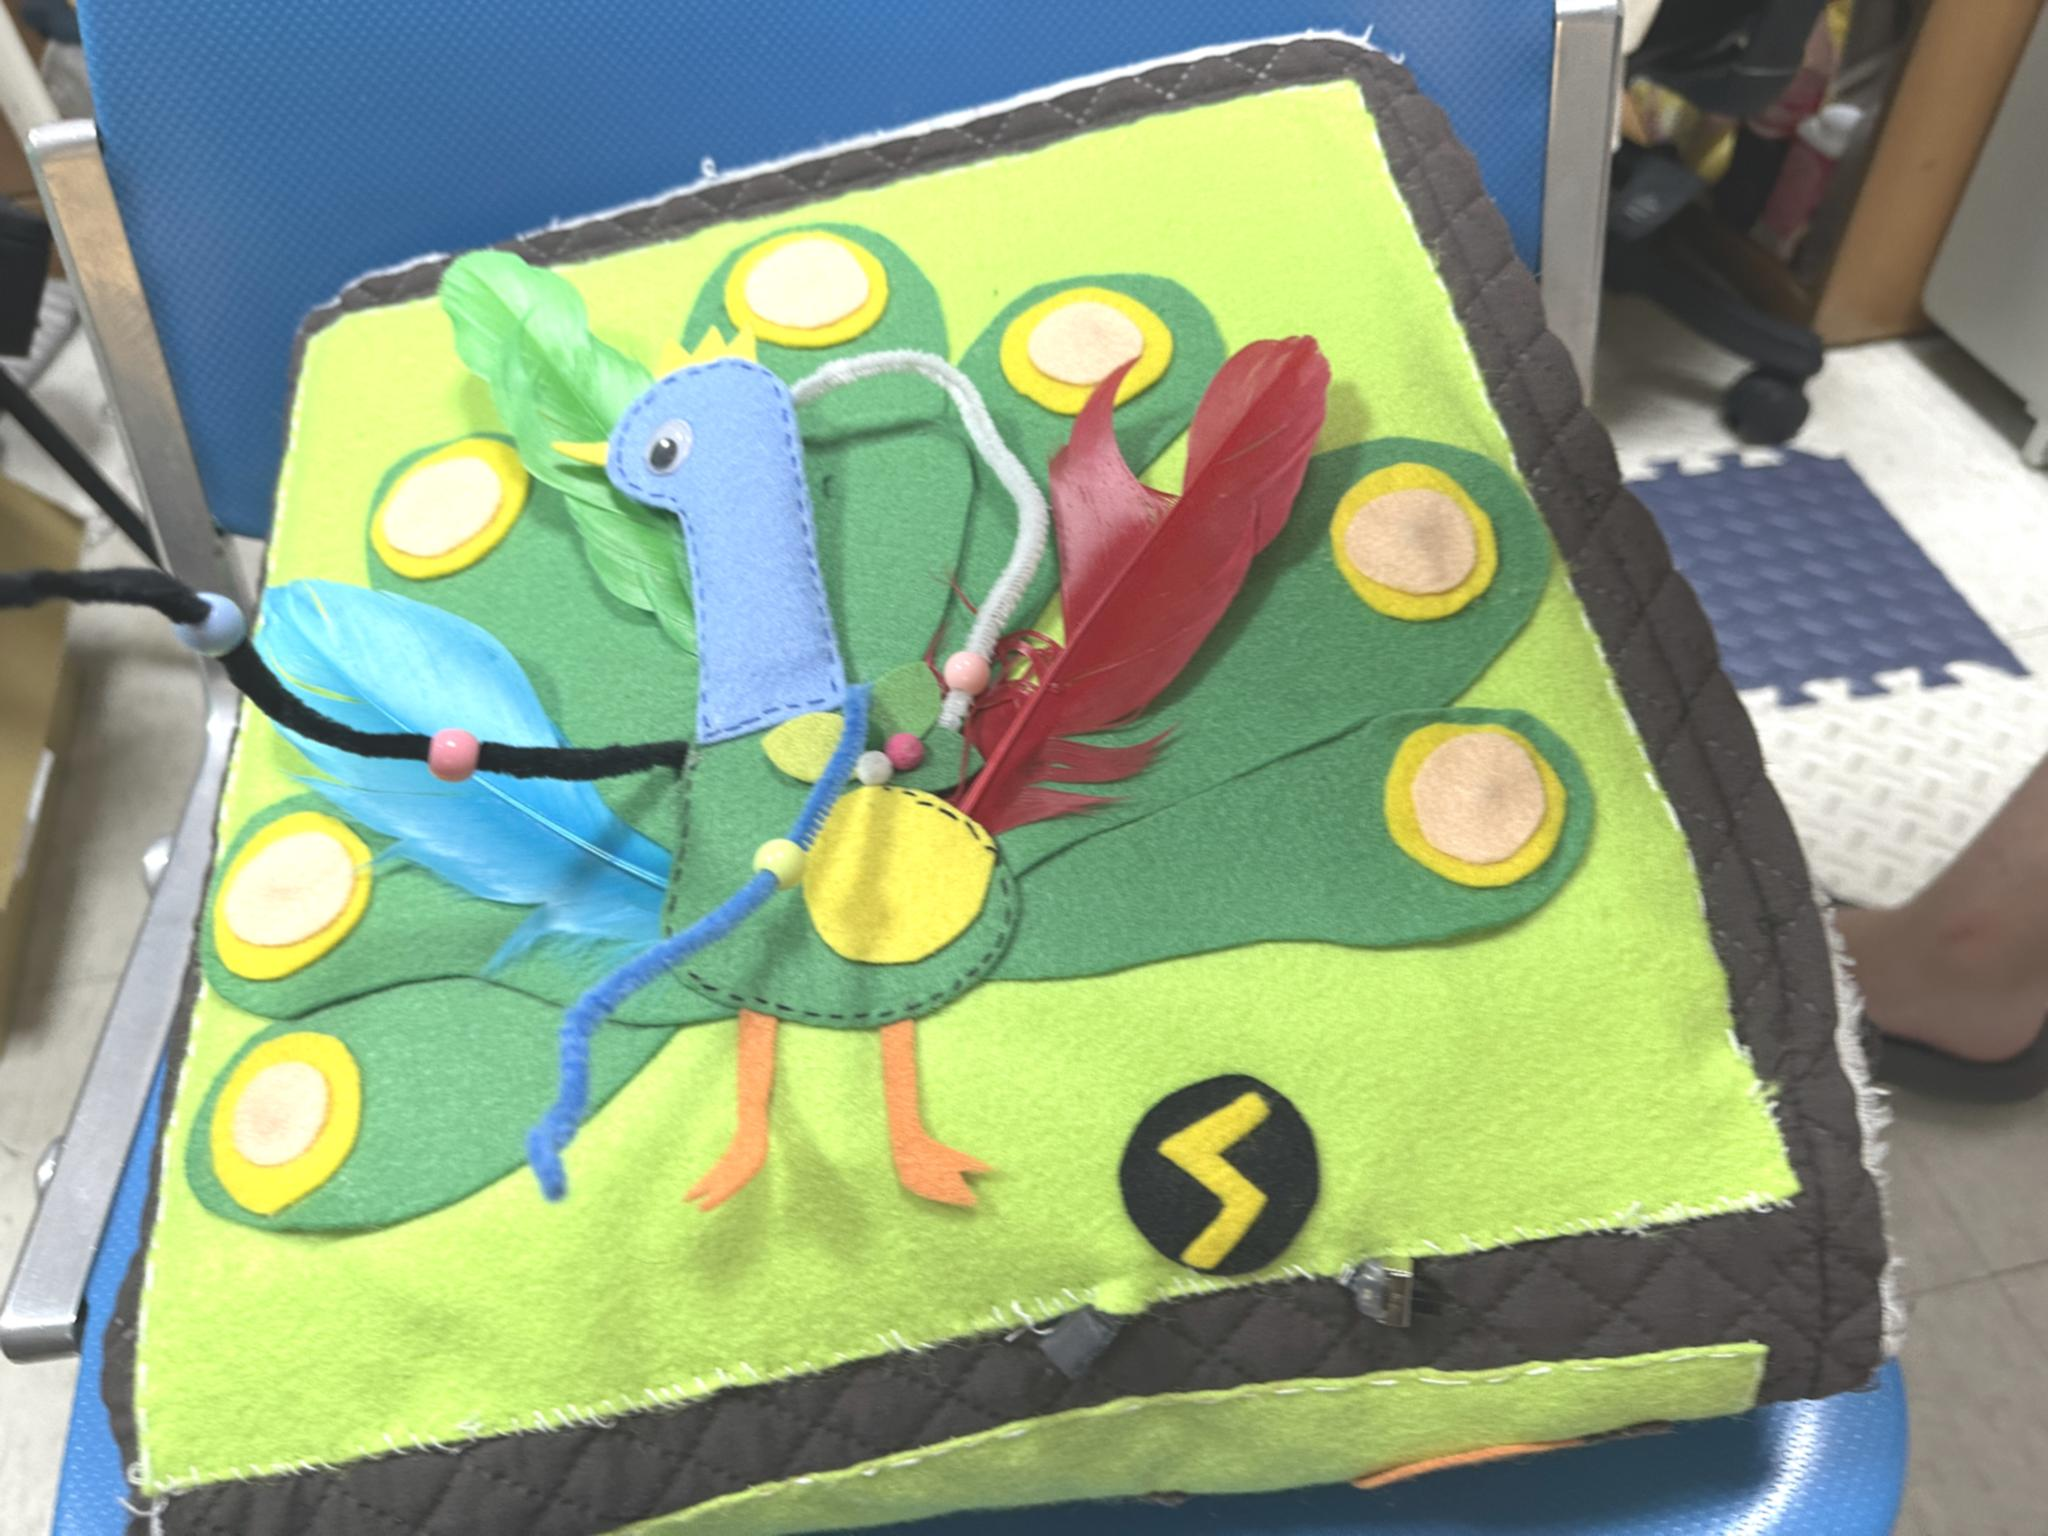bead: (168, 552, 256, 694), (924, 637, 1018, 718), (416, 713, 492, 794), (753, 826, 826, 894)
